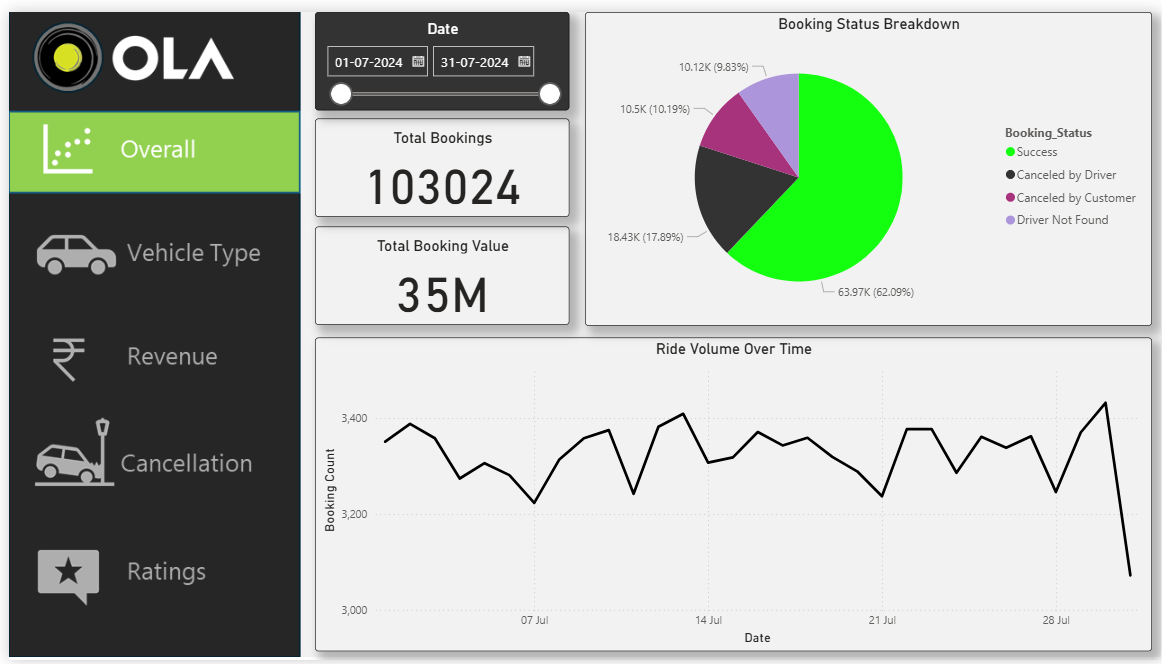

What the dashboard file says about the page in this screenshot:
{"tool":"powerbi","page":{"name":"Overall","canvas":[1280,720],"ordinal":0},"visuals":[{"type":"actionButton","box":[0,109.4,322,90.7],"z":0},{"type":"actionButton","box":[0,228.2,322,90.7],"z":1000},{"type":"actionButton","box":[0,336,322,90.7],"z":2000},{"type":"actionButton","box":[0,576.7,322,90.7],"z":3000},{"type":"actionButton","box":[0,445.5,322,90.7],"z":4000},{"type":"lineChart","title":"Ride Volume Over Time","fields":{"Y":["CountNonNull(July.Booking_ID)"],"Category":["July.Date"]},"box":[339.2,359.5,930,348.5],"z":5000},{"type":"pieChart","title":"Booking Status Breakdown","fields":{"Category":["July.Booking_Status"],"Y":["CountNonNull(July.Booking_Status)"]},"box":[639.3,0,629.9,348.5],"z":6000},{"type":"slicer","title":"Date","fields":{"Values":["July.Date"]},"box":[339.2,0,282.9,109.4],"z":7000},{"type":"card","title":"Total Bookings","fields":{"Values":["Count(July.Booking_ID)"]},"box":[339.2,118.8,282.9,109.4],"z":8000},{"type":"card","title":"Total Booking Value","fields":{"Values":["Sum(July.Booking_Value)"]},"box":[340.7,239.1,282.9,109.4],"z":9000}]}

Visuals, with their boxes in screenshot pixels (x1, y1, x2, y2), scaled from the page's 1280x720 canvas onto the 1162x664 screenshot:
actionButton: crop(0, 101, 292, 185)
actionButton: crop(0, 210, 292, 294)
actionButton: crop(0, 310, 292, 394)
actionButton: crop(0, 532, 292, 615)
actionButton: crop(0, 411, 292, 494)
"Ride Volume Over Time" lineChart: crop(308, 332, 1152, 653)
"Booking Status Breakdown" pieChart: crop(580, 0, 1152, 321)
"Date" slicer: crop(308, 0, 565, 101)
"Total Bookings" card: crop(308, 110, 565, 210)
"Total Booking Value" card: crop(309, 221, 566, 321)
